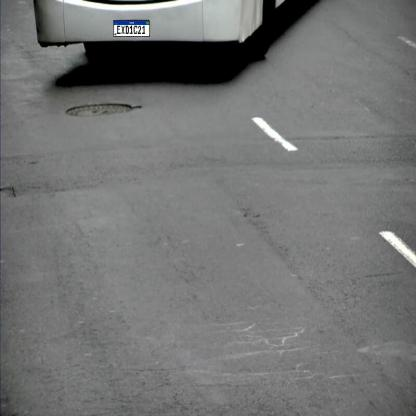PlacaM: (113, 20, 150, 37)
